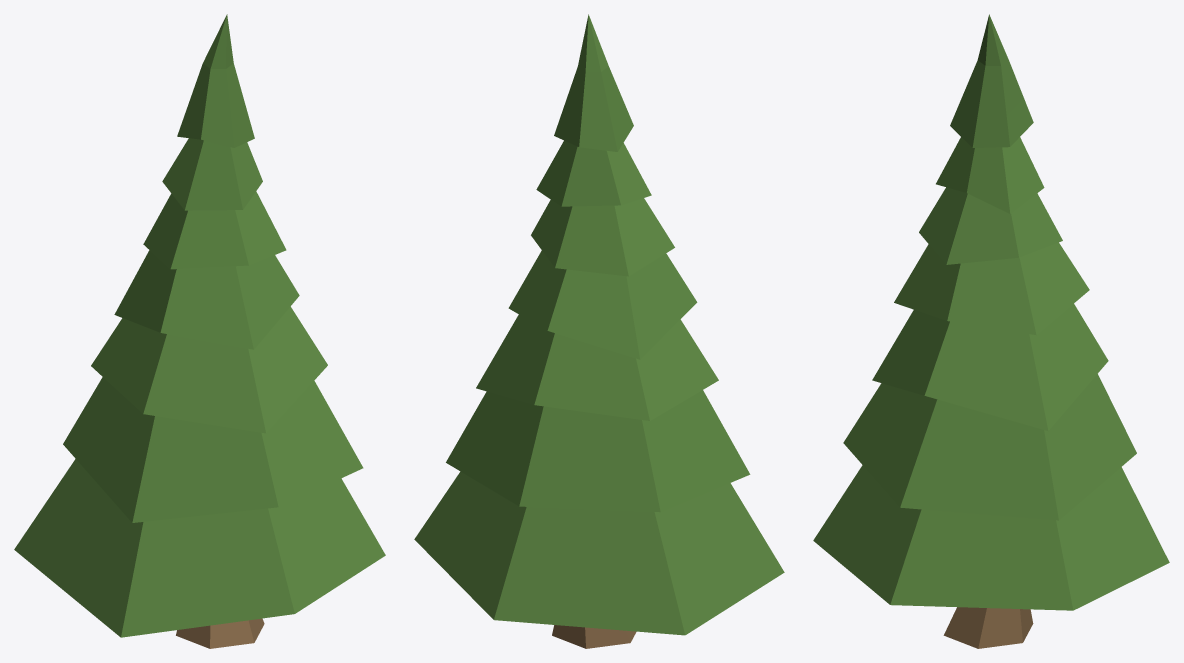
File: pine_3.fbx
The picture shows the model from 3 angles, left to right: view 1: azimuth 30°, elevation 25°; view 2: azimuth 150°, elevation 25°; view 3: azimuth 270°, elevation 25°; orthographic projection.
Visible parts, largest first — view 1: pine_3; view 2: pine_3; view 3: pine_3.
Boxes of the visible parts, x1,y1,x2,y2 form: pine_3: [14, 14, 385, 648]; pine_3: [414, 14, 784, 648]; pine_3: [813, 14, 1169, 648].
Size of the model in its own units: 224 by 457 by 239.
Materials: 1 (1 with a texture image).
